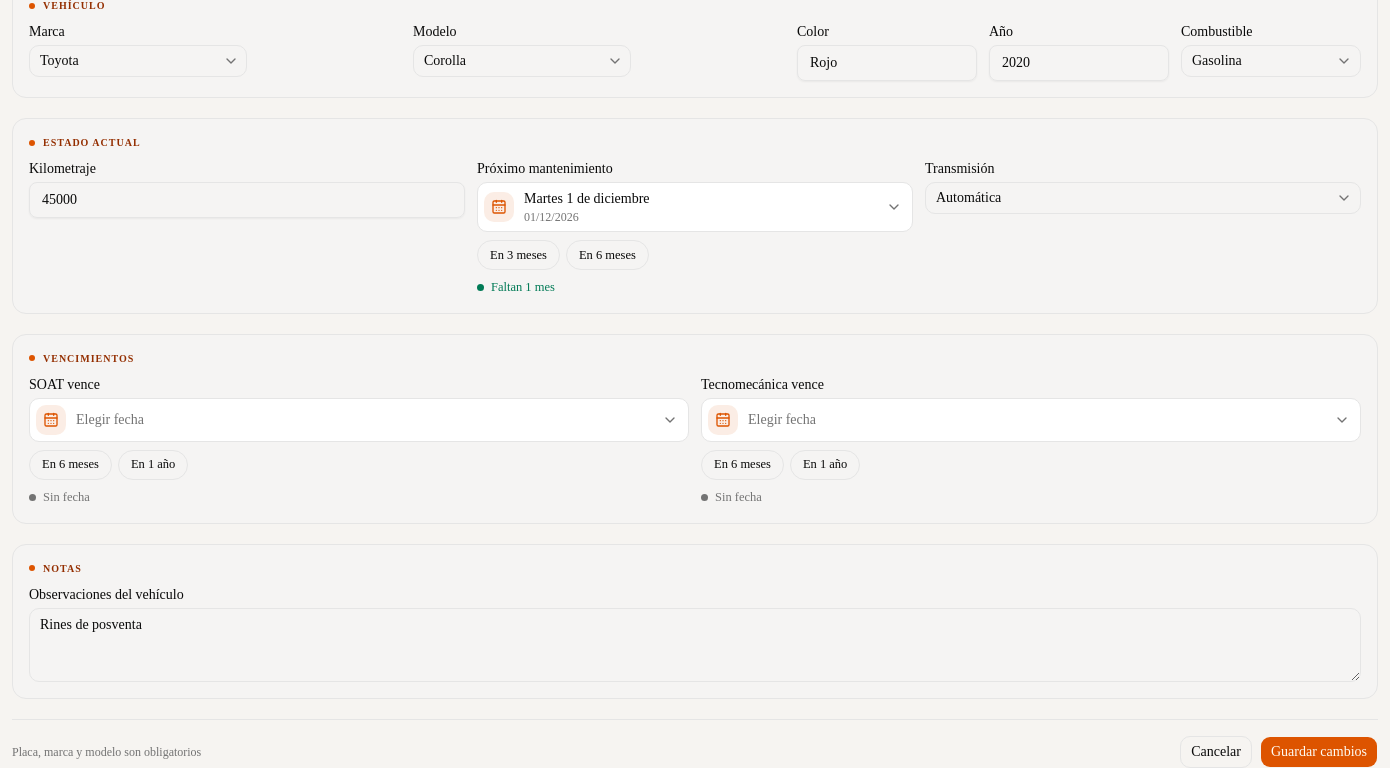
Test: EditarVehiculoForm › shows a success message after a successful submit
The width and height of the screenshot is (1390, 768).
(page scrolled)
What coordinates should you click on to do the following:
click the button "Guardar cambios"
I would click on:
 (1319, 752)
Its box is [1260,736,1378,767].
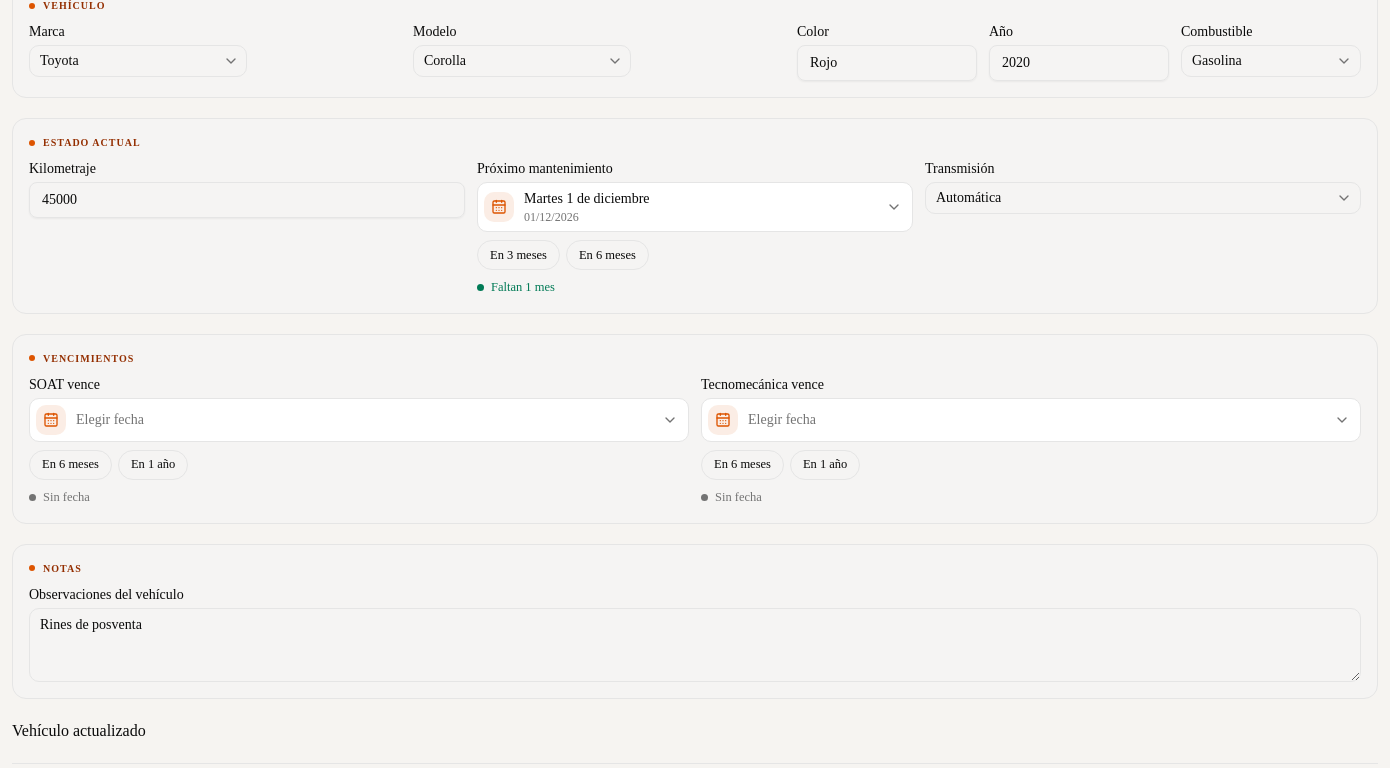
Result: the message reads "Vehículo actualizado" at [12,722,146,738]
